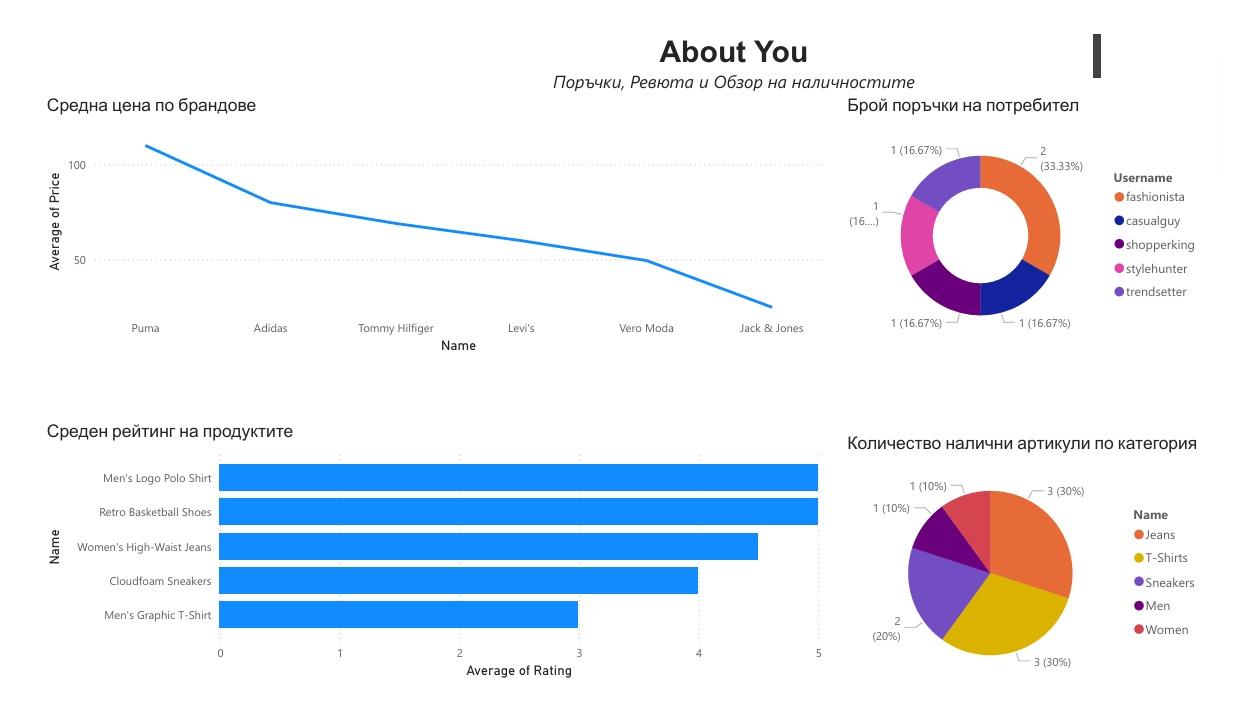

The page's visual inventory and layout, read from the dashboard file:
{"tool":"powerbi","page":{"name":"Page 1","canvas":[1280,720],"ordinal":0},"visuals":[{"type":"barChart","title":"Среден рейтинг на продуктите","fields":{"Category":["Products.Name"],"Y":["Avg(Reviews.Rating)"]},"box":[23.3,426.8,837.1,279.9],"z":0},{"type":"pieChart","title":"Количество налични артикули по категория","fields":{"Category":["Categories.Name"],"Y":["Sum(Order_Items.Quantity)"]},"box":[876.8,440.5,389.7,279.9],"z":1},{"type":"lineChart","title":"Средна цена по брандове","fields":{"Category":["Brands.Name"],"Y":["Avg(Products.Price)"]},"box":[23.3,79.6,837.1,279.9],"z":2},{"type":"donutChart","title":"Брой поръчки на потребител","fields":{"Category":["Users.Username"],"Y":["CountNonNull(Orders.TotalAmount)"]},"box":[877,80,390,280],"z":3},{"type":"textbox","box":[140.6,10,1017.6,69.7],"z":4}]}

Visuals, with their boxes in screenshot pixels (x1, y1, x2, y2), scaled from the page's 1280x720 canvas onto the 1242x716 screenshot:
"Среден рейтинг на продуктите" barChart: rect(23, 424, 835, 703)
"Количество налични артикули по категория" pieChart: rect(851, 438, 1229, 715)
"Средна цена по брандове" lineChart: rect(23, 79, 835, 358)
"Брой поръчки на потребител" donutChart: rect(851, 80, 1229, 358)
textbox: rect(136, 10, 1124, 79)
